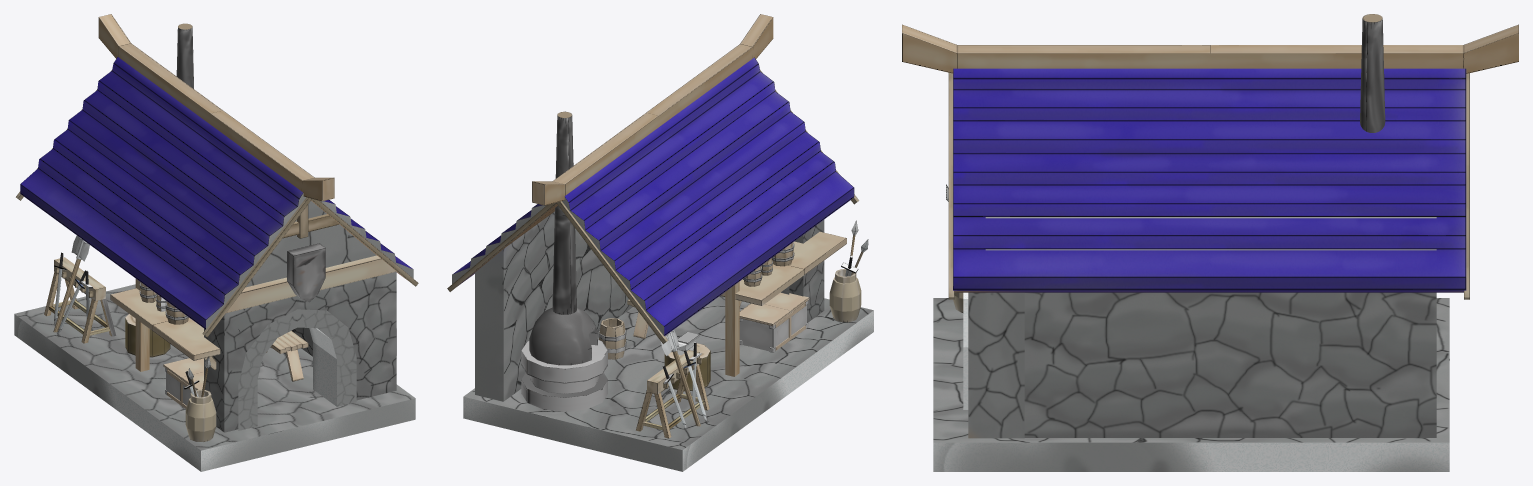
The model's file is 플젝_대장간 (2).fbx.
3 renders of one model, left to right at view 1: azimuth 30°, elevation 25°; view 2: azimuth 150°, elevation 25°; view 3: azimuth 270°, elevation 25°, orthographic. The views are drawn at different scales.
Visible parts, largest first — view 1: smithy_roof, smithy_obj; view 2: smithy_roof, smithy_obj; view 3: smithy_roof, smithy_obj.
Boxes of the visible parts, x1,y1,x2,y2 form: smithy_roof: [14, 57, 415, 471]; smithy_obj: [16, 14, 418, 442]; smithy_roof: [452, 57, 873, 471]; smithy_obj: [447, 14, 868, 438]; smithy_roof: [933, 68, 1466, 471]; smithy_obj: [902, 14, 1518, 312].
Bounding box in the file's own units: 5.56 × 6.9 × 9.51.
